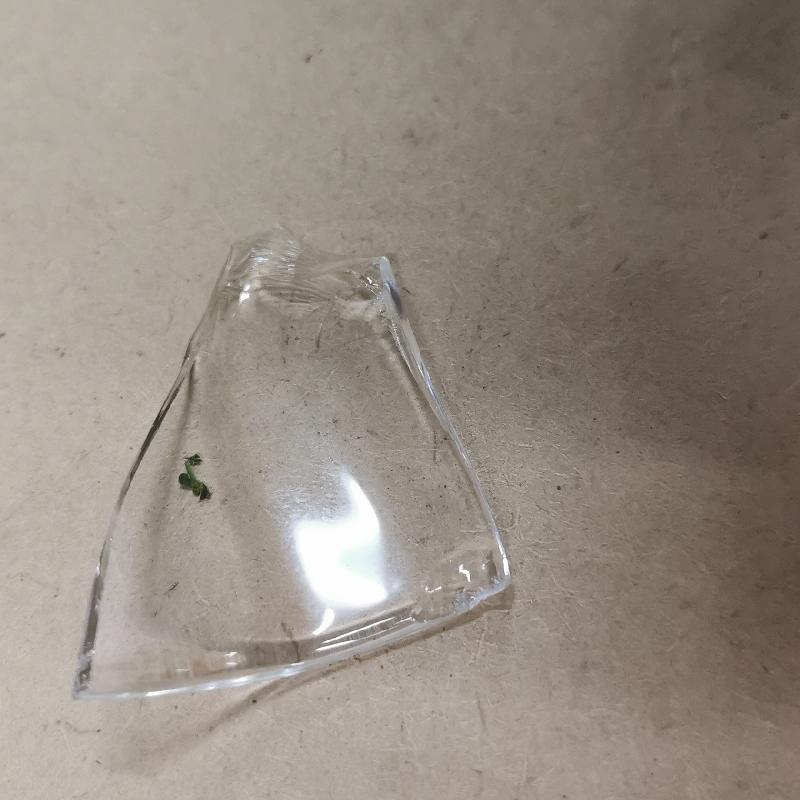glass: (75, 229, 512, 702)
